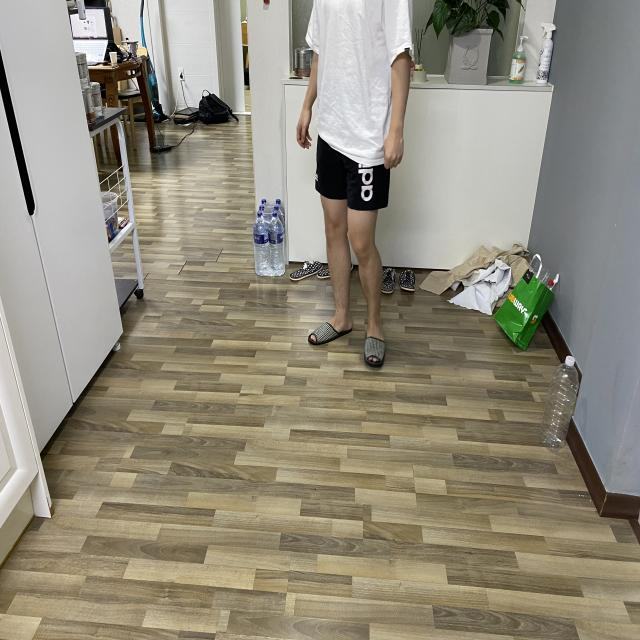no-boots: (360, 315, 410, 380), (299, 306, 358, 353)
